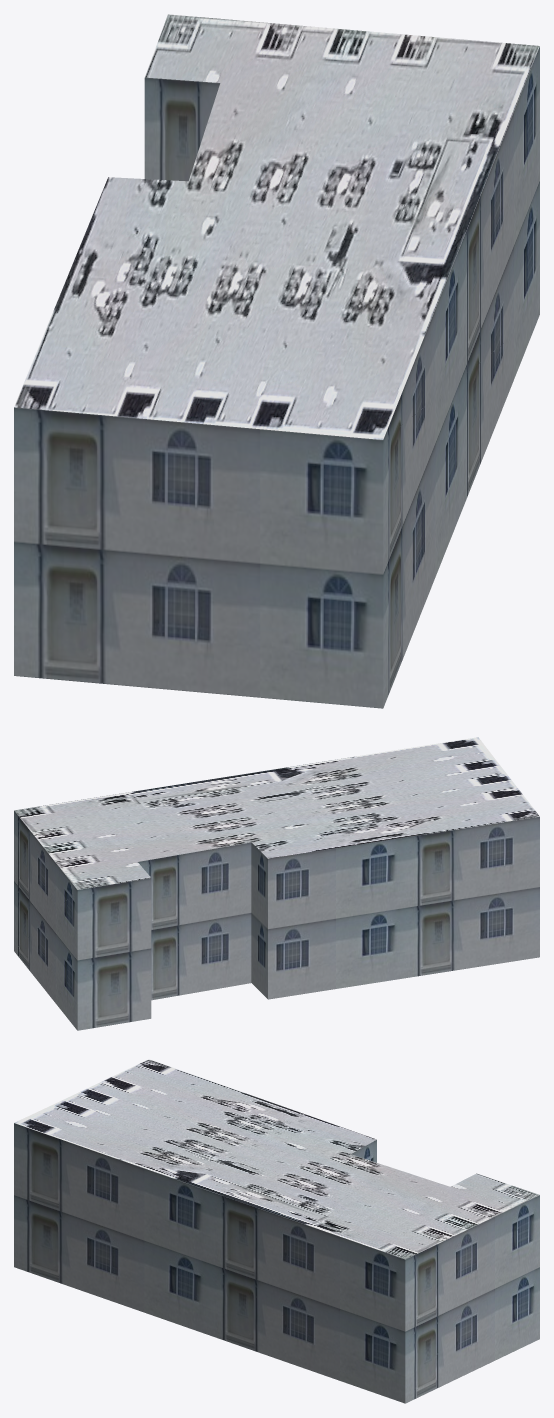
File: ResTex__5146.fbx
The picture shows the model from 3 angles, top to bottom: view 1: azimuth 30°, elevation 25°; view 2: azimuth 150°, elevation 25°; view 3: azimuth 270°, elevation 25°; orthographic projection. The views are drawn at different scales.
Parts seen in each view (by area): view 1: CityEngineMaterial_17_m, CityEngineMaterial_m; view 2: CityEngineMaterial_17_m, CityEngineMaterial_m; view 3: CityEngineMaterial_17_m, CityEngineMaterial_m.
Boxes of the visible parts, x1=… form: CityEngineMaterial_17_m: x1=14, y1=46, x2=539, y2=708; CityEngineMaterial_m: x1=14, y1=14, x2=539, y2=439; CityEngineMaterial_17_m: x1=14, y1=811, x2=539, y2=1030; CityEngineMaterial_m: x1=14, y1=737, x2=539, y2=889; CityEngineMaterial_17_m: x1=14, y1=1123, x2=539, y2=1403; CityEngineMaterial_m: x1=14, y1=1059, x2=539, y2=1259.
Size of the model in its own units: 17.88 by 6 by 19.85.
Materials: 2 (2 with a texture image).
